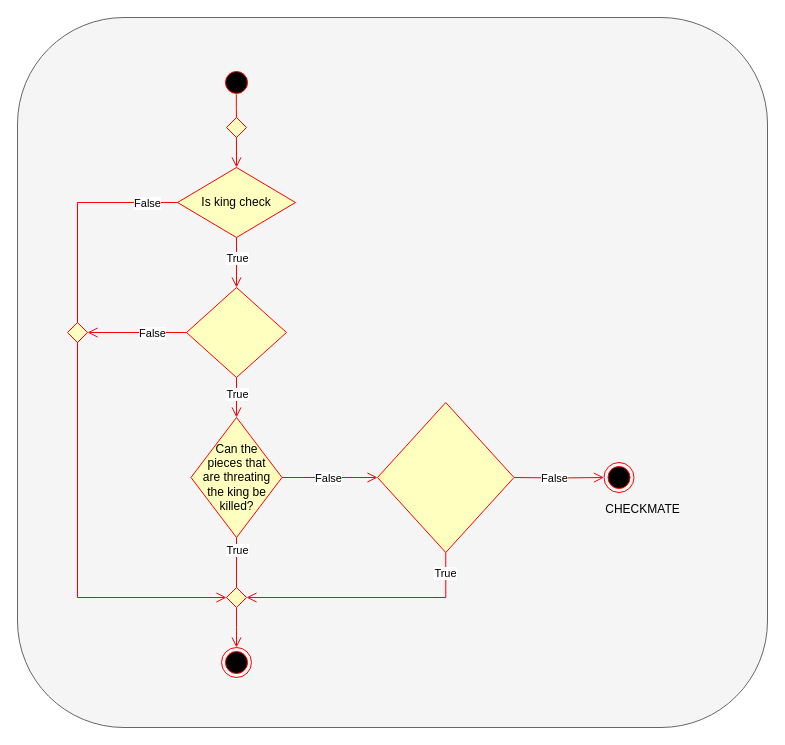
This 785x745 diagram has some shape labels left out. The centre of each missing label's shape, as x and y in pixels:
"Are empty fields around king check" goes at [236,332].
"Can a team mate block the piece (except Knight) which is threatening the king?" goes at [445,477].
